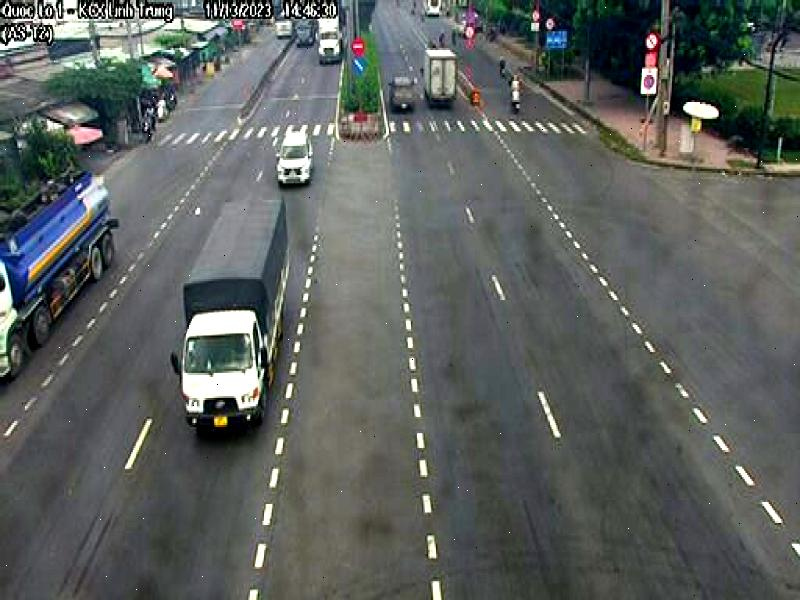truck: (173, 193, 292, 437)
